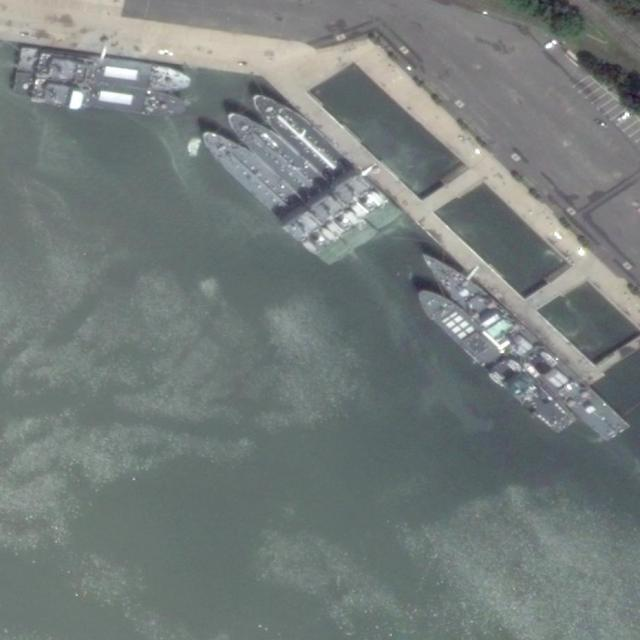Frigate: (414, 240, 632, 448)
Landing: (191, 124, 351, 273), (220, 103, 378, 253), (244, 84, 398, 233)
Other Warship: (412, 279, 578, 440), (11, 71, 194, 126), (17, 45, 195, 96)
